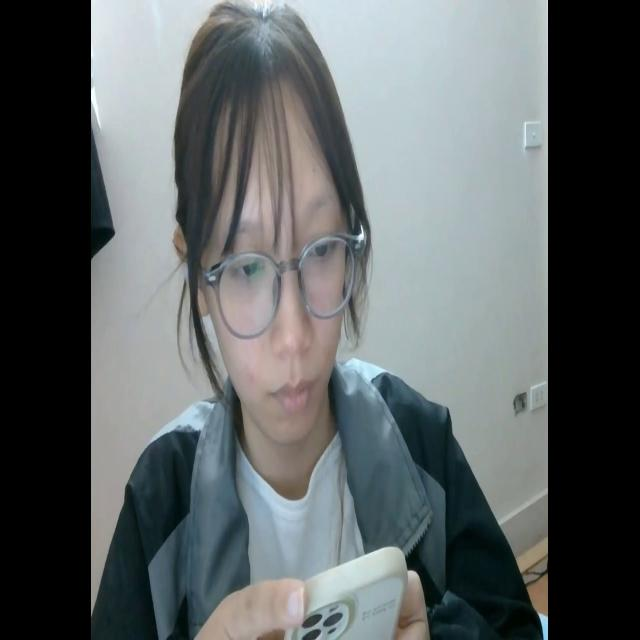phone: (280, 544, 408, 640)
student: (104, 0, 542, 640)
